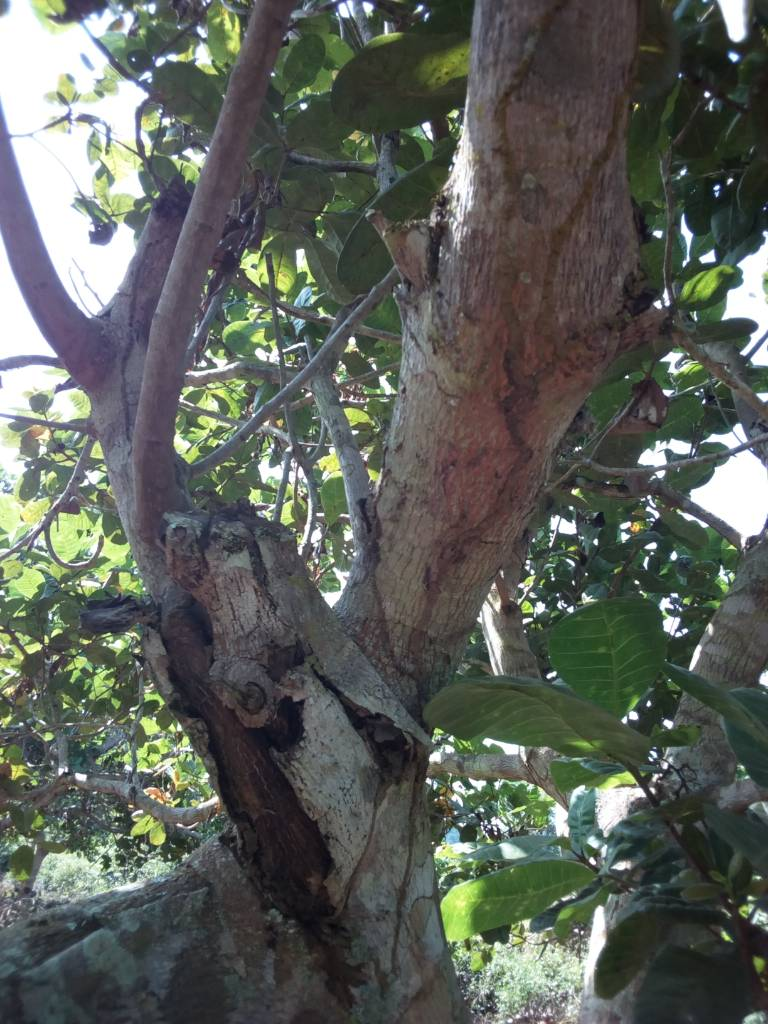Termites: (147, 511, 427, 977), (405, 233, 593, 666)
